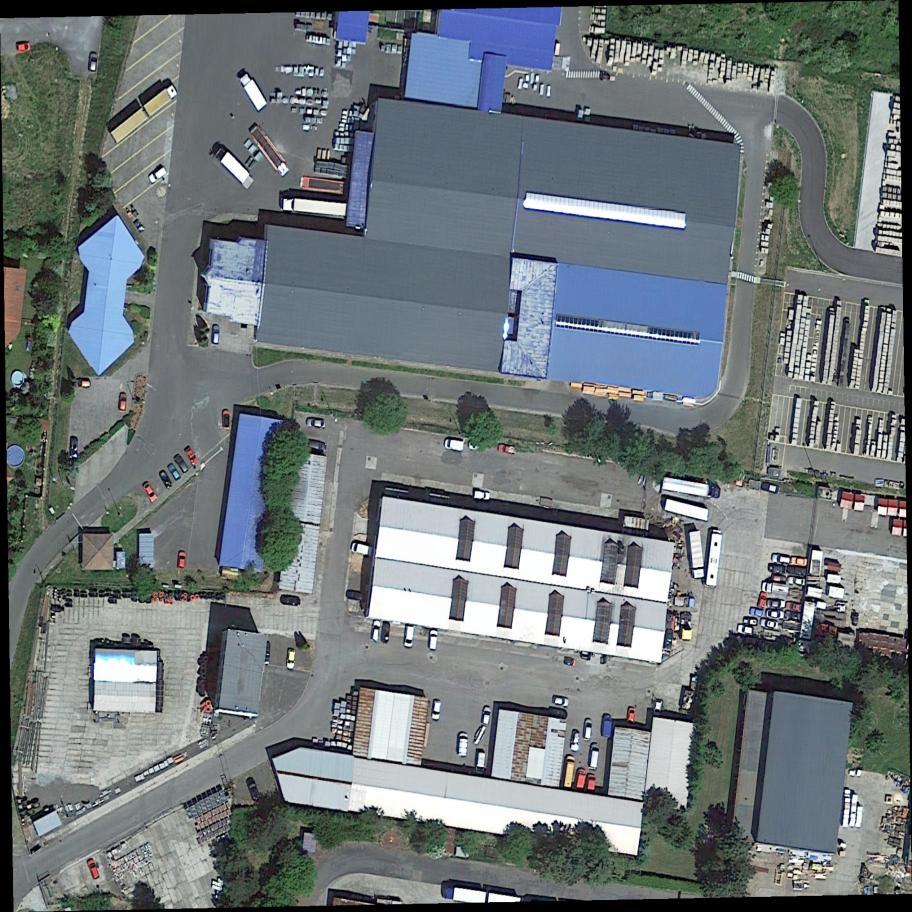large-vehicle: (103, 77, 183, 144), (209, 141, 256, 190), (661, 474, 721, 499), (280, 195, 348, 217), (236, 68, 268, 111), (761, 581, 788, 595)
small-vehicle: (560, 755, 576, 788), (245, 776, 262, 802), (146, 165, 168, 184), (142, 481, 159, 502), (351, 542, 373, 557), (157, 470, 174, 489), (173, 454, 190, 473), (444, 437, 465, 452), (600, 713, 613, 737), (86, 859, 101, 879), (402, 624, 415, 647), (581, 718, 594, 741), (588, 743, 599, 770), (457, 732, 469, 756), (184, 446, 199, 465), (650, 697, 664, 717), (307, 440, 328, 453), (574, 768, 587, 789), (280, 594, 302, 606), (474, 751, 486, 773), (345, 589, 366, 601), (431, 699, 442, 721), (305, 417, 327, 428), (569, 729, 580, 751), (770, 552, 790, 564), (759, 618, 779, 630), (167, 463, 181, 480), (480, 706, 492, 725), (370, 621, 381, 641), (87, 52, 98, 72), (428, 630, 439, 650), (498, 444, 518, 455), (786, 565, 806, 576), (736, 623, 754, 635), (585, 773, 597, 791), (381, 622, 391, 643), (286, 648, 296, 669), (756, 591, 768, 608), (69, 437, 79, 457), (785, 601, 803, 612), (551, 696, 569, 707), (761, 483, 779, 493), (768, 563, 786, 573), (787, 576, 805, 586), (626, 707, 636, 725), (222, 410, 231, 429), (118, 392, 127, 411), (211, 325, 220, 344), (790, 556, 807, 566), (748, 607, 765, 617), (474, 490, 491, 500), (767, 599, 785, 608), (766, 610, 784, 619), (177, 551, 185, 569), (742, 616, 758, 625), (77, 378, 91, 388), (563, 657, 577, 667), (771, 574, 787, 582), (16, 42, 30, 51)
